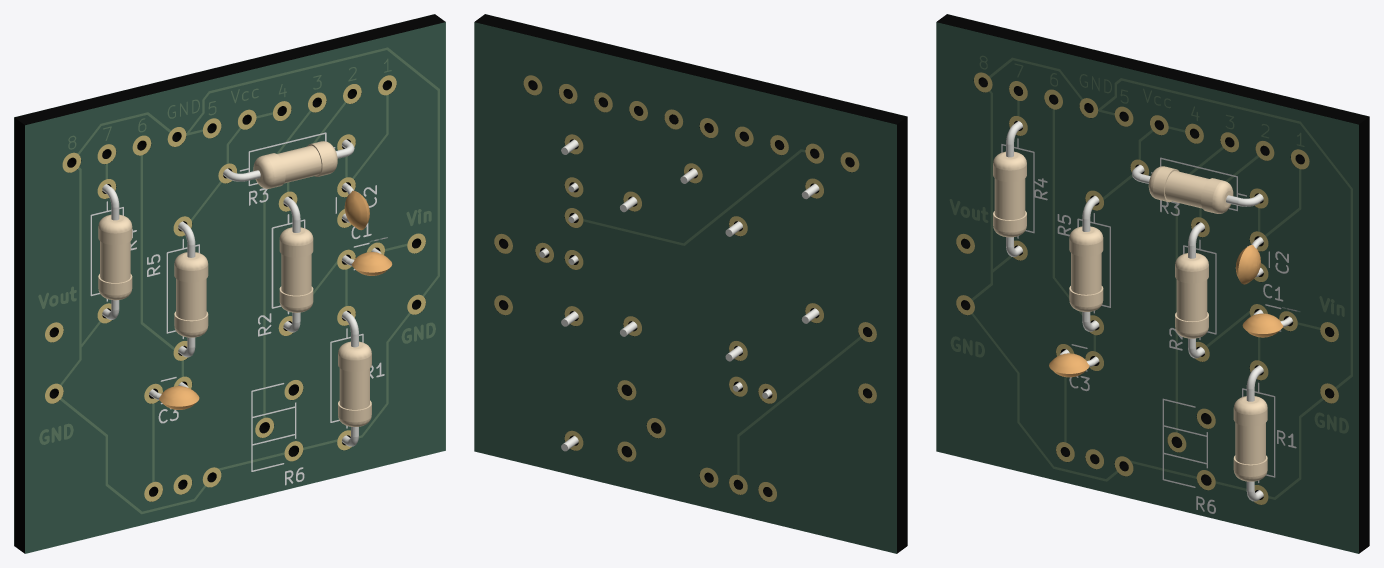
The model's file is tube_effector.glb.
3 views of the same model, side by side, from view 1: azimuth 30°, elevation 25°; view 2: azimuth 150°, elevation 25°; view 3: azimuth 330°, elevation 25° (orthographic).
Visible parts, largest first — view 1: SHAPE_34_IndexedFaceSet, SHAPE_30_IndexedFaceSet, SHAPE_32_IndexedFaceSet, SHAPE_31_IndexedFaceSet, SHAPE_37_IndexedFaceSet, SHAPE_5_IndexedFaceSet, SHAPE_5_IndexedFaceSet.002, SHAPE_5_IndexedFaceSet.003, SHAPE_5_IndexedFaceSet.001, SHAPE_5_IndexedFaceSet.004, SHAPE_22_IndexedFaceSet, SHAPE_22_IndexedFaceSet.002 (+2 smaller); view 2: SHAPE_36_IndexedFaceSet, SHAPE_30_IndexedFaceSet, SHAPE_31_IndexedFaceSet, SHAPE_35_IndexedFaceSet; view 3: SHAPE_34_IndexedFaceSet, SHAPE_30_IndexedFaceSet, SHAPE_32_IndexedFaceSet, SHAPE_31_IndexedFaceSet, SHAPE_37_IndexedFaceSet, SHAPE_5_IndexedFaceSet, SHAPE_5_IndexedFaceSet.001, SHAPE_5_IndexedFaceSet.003, SHAPE_5_IndexedFaceSet.002, SHAPE_5_IndexedFaceSet.004, SHAPE_23_IndexedFaceSet, SHAPE_22_IndexedFaceSet.002 (+1 smaller).
Boxes of the visible parts, x1,y1,x2,y2 form: SHAPE_34_IndexedFaceSet: [25, 22, 445, 553]; SHAPE_30_IndexedFaceSet: [25, 22, 445, 552]; SHAPE_32_IndexedFaceSet: [39, 48, 439, 513]; SHAPE_31_IndexedFaceSet: [14, 14, 445, 553]; SHAPE_37_IndexedFaceSet: [90, 132, 384, 485]; SHAPE_5_IndexedFaceSet: [281, 254, 311, 295]; SHAPE_5_IndexedFaceSet.002: [176, 279, 206, 320]; SHAPE_5_IndexedFaceSet.003: [339, 368, 369, 409]; SHAPE_5_IndexedFaceSet.001: [100, 241, 130, 282]; SHAPE_5_IndexedFaceSet.004: [277, 145, 321, 183]; SHAPE_22_IndexedFaceSet: [344, 190, 367, 230]; SHAPE_22_IndexedFaceSet.002: [159, 386, 199, 406]; SHAPE_36_IndexedFaceSet: [474, 22, 896, 553]; SHAPE_30_IndexedFaceSet: [474, 22, 896, 552]; SHAPE_31_IndexedFaceSet: [475, 14, 907, 553]; SHAPE_35_IndexedFaceSet: [494, 75, 876, 501]; SHAPE_34_IndexedFaceSet: [936, 22, 1358, 553]; SHAPE_30_IndexedFaceSet: [936, 22, 1358, 552]; SHAPE_32_IndexedFaceSet: [950, 56, 1352, 504]; SHAPE_31_IndexedFaceSet: [937, 14, 1369, 553]; SHAPE_37_IndexedFaceSet: [1001, 138, 1296, 513]; SHAPE_5_IndexedFaceSet: [1176, 280, 1207, 321]; SHAPE_5_IndexedFaceSet.001: [994, 178, 1025, 219]; SHAPE_5_IndexedFaceSet.003: [1235, 422, 1265, 464]; SHAPE_5_IndexedFaceSet.002: [1071, 253, 1101, 294]; SHAPE_5_IndexedFaceSet.004: [1165, 171, 1209, 208]; SHAPE_23_IndexedFaceSet: [1238, 245, 1260, 284]; SHAPE_22_IndexedFaceSet.002: [1049, 353, 1089, 373].
Size of the model in its own units: 0.036 by 0.035 by 0.00614.
